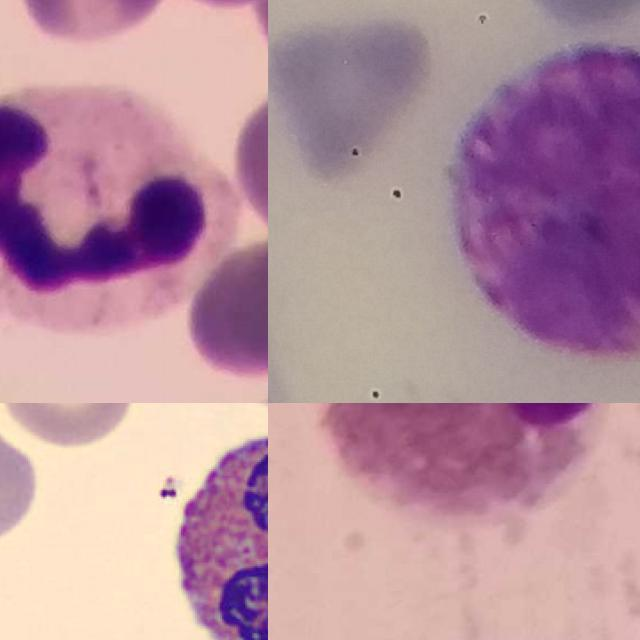Basophil: (448, 37, 640, 359)
Eosinophil: (315, 403, 602, 524), (152, 412, 268, 640)
Neutrophil: (0, 85, 238, 332)
RBC: (0, 403, 143, 451)
